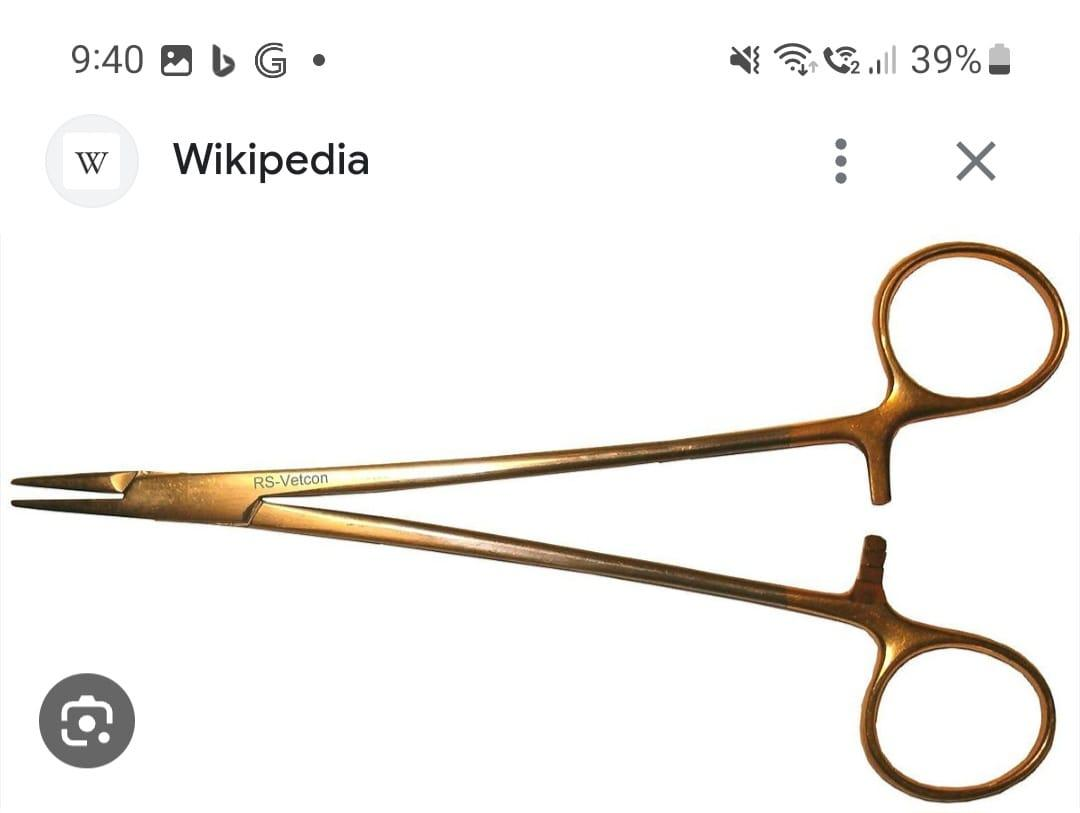Needle Holder: (0, 239, 1071, 799)
